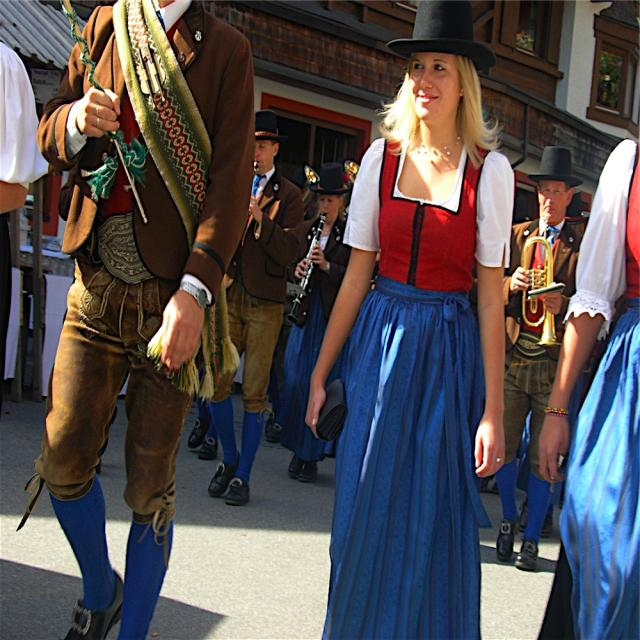clarinet: (288, 207, 329, 326)
